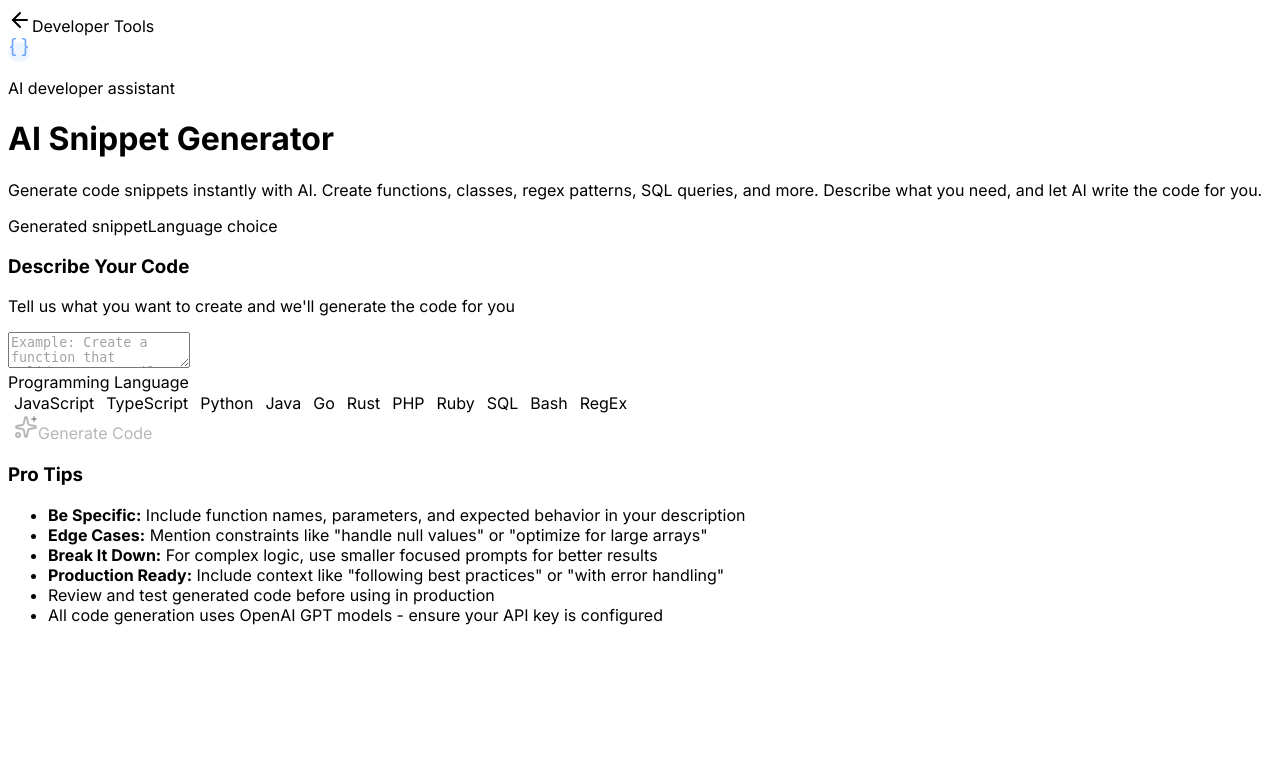
Test: AI Snippet Generator - Code Generation Tests › should generate code successfully
Type "Create a function to add two numbers" into the text box with placeholder "Create a function that validates" at (99, 350), box [8,332,190,368]
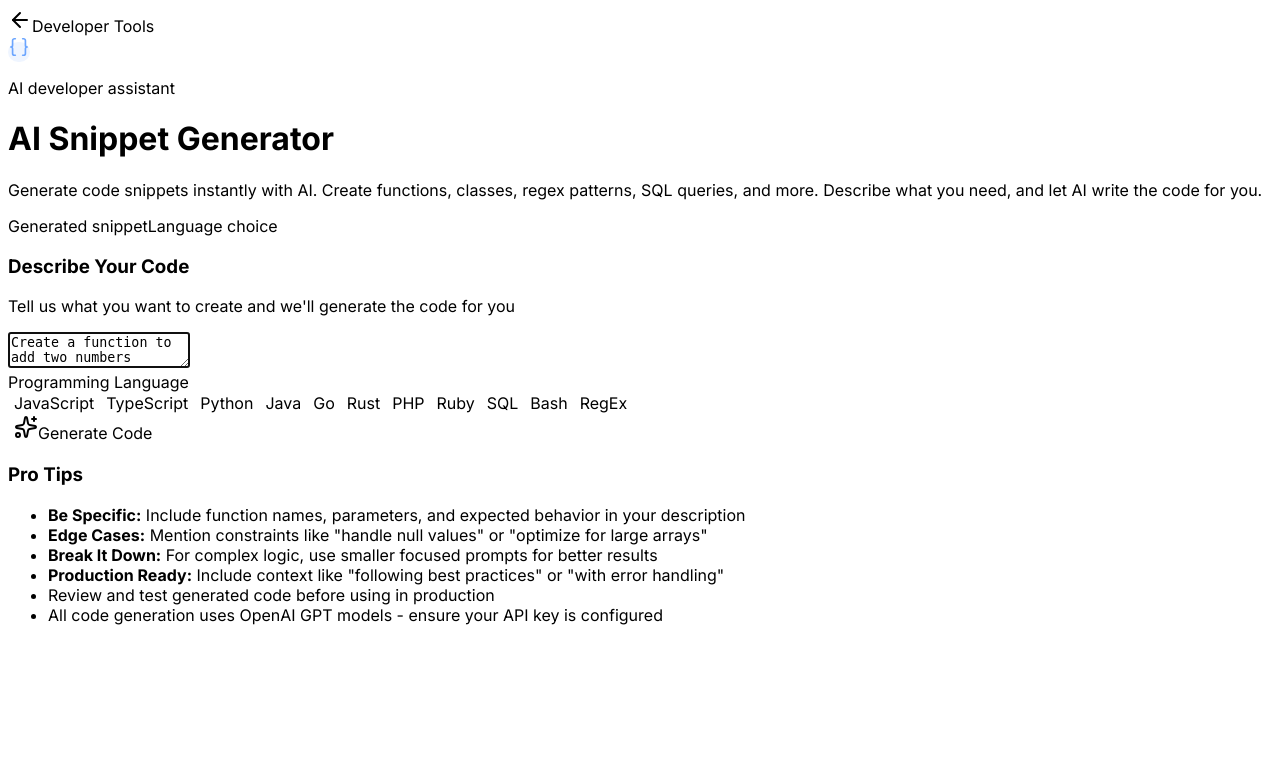
Click the button "Generate Code" at (83, 429), box [8,414,158,444]
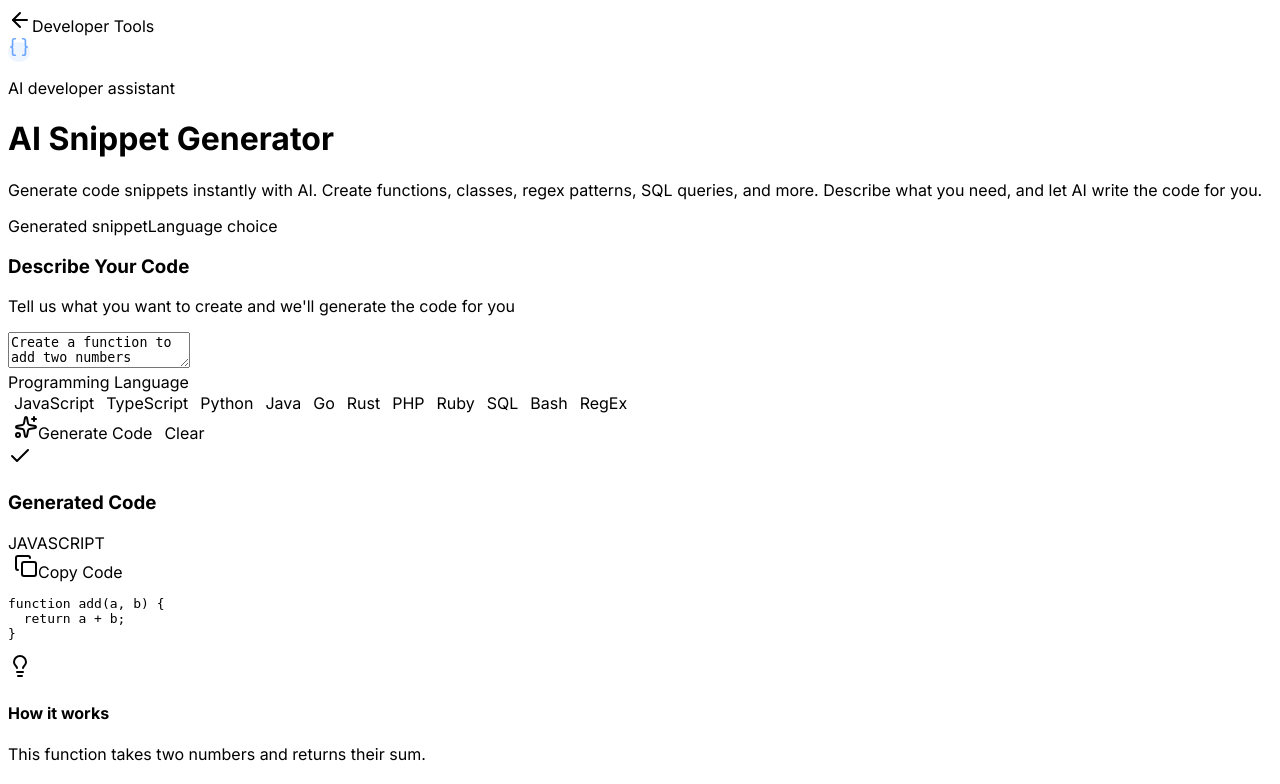
Check: the text "function add(a, b)" is shown, box [8,596,164,641]
